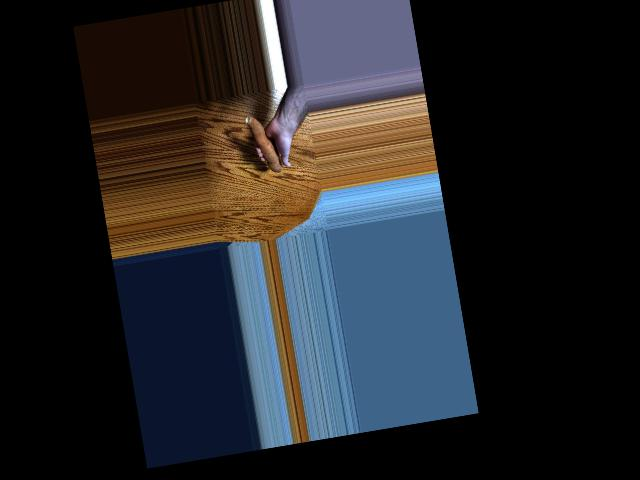sweet_potato: (244, 110, 283, 176)
